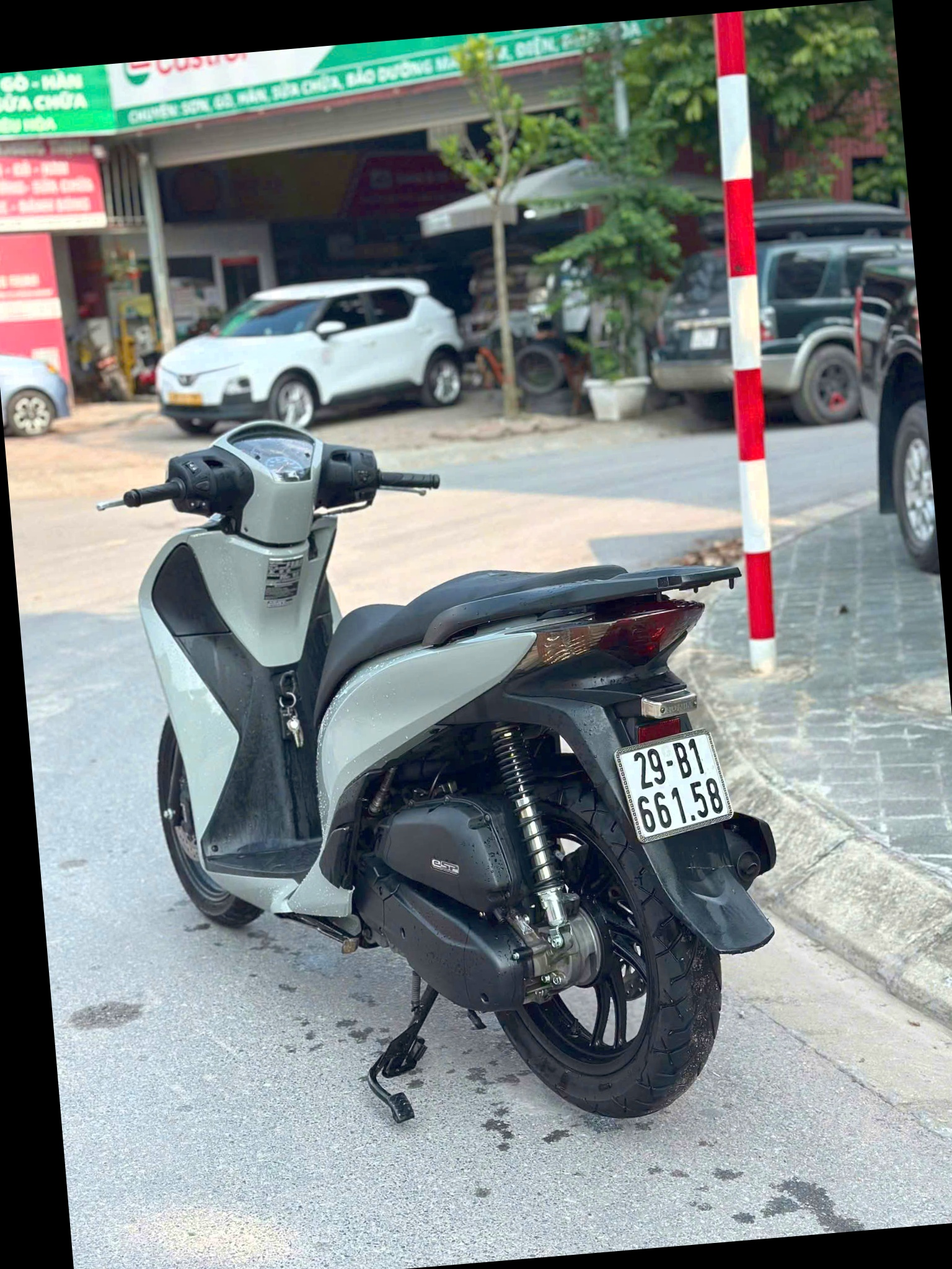Bien-so: (606, 759, 743, 873)
